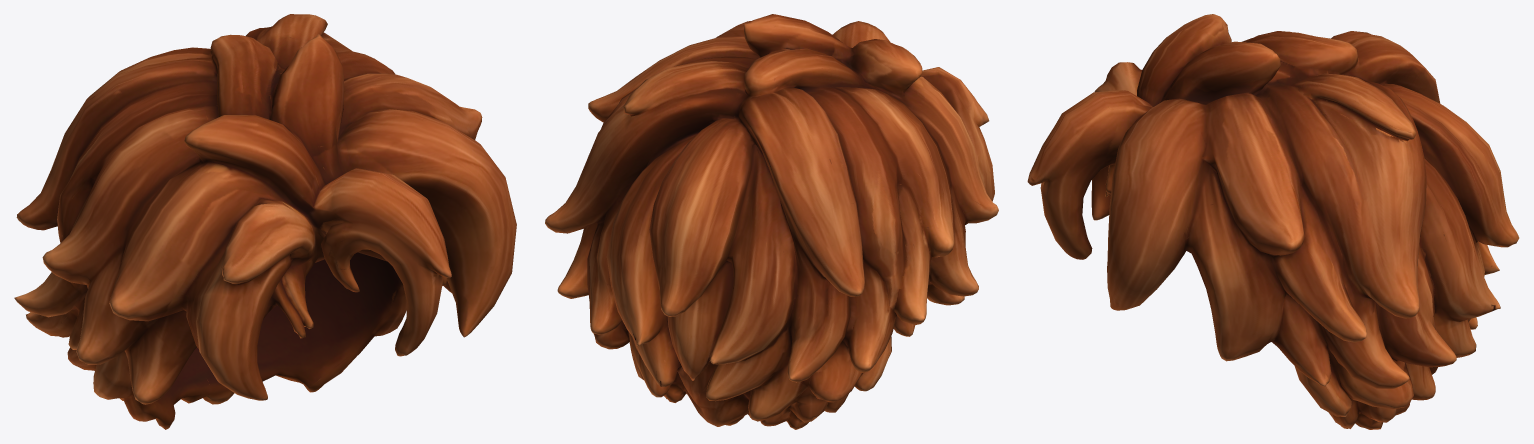
File: Hair_Bacon.glb
3 views of the same model, side by side, from view 1: azimuth 30°, elevation 25°; view 2: azimuth 150°, elevation 25°; view 3: azimuth 270°, elevation 25° (orthographic). The views are drawn at different scales.
Parts seen in each view (by area): view 1: Hair_low.001; view 2: Hair_low.001; view 3: Hair_low.001.
Part boxes in pixels (box(x1,y1,x2,y2)): Hair_low.001: box(14, 14, 516, 429); Hair_low.001: box(545, 14, 998, 429); Hair_low.001: box(1027, 14, 1519, 429).
Bounding box in the file's own units: 0.0568 × 0.0514 × 0.0621.
1 material, 1 textured.
